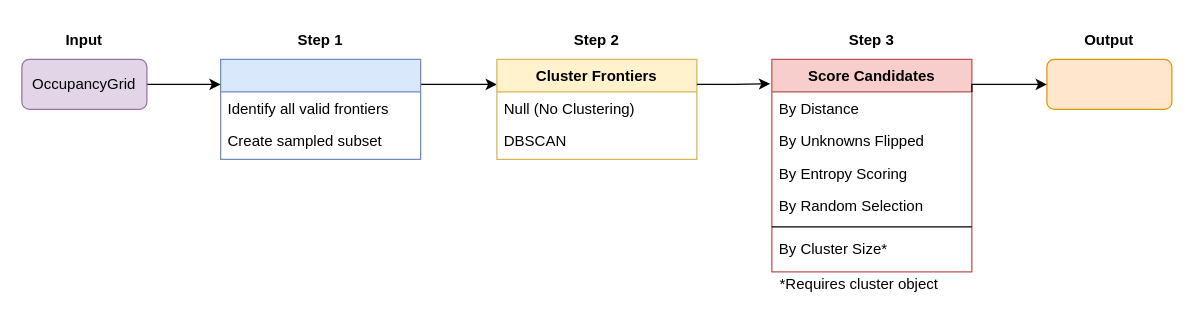
The diagram is 1194 pixels wide and 318 high, and some of its shapes have lost their labels. The box of each missing label's shape, as (x1, y1, x2, y2) in pixels:
Find Frontiers: (219, 58, 421, 159)
GoalPose: (1046, 58, 1172, 109)
